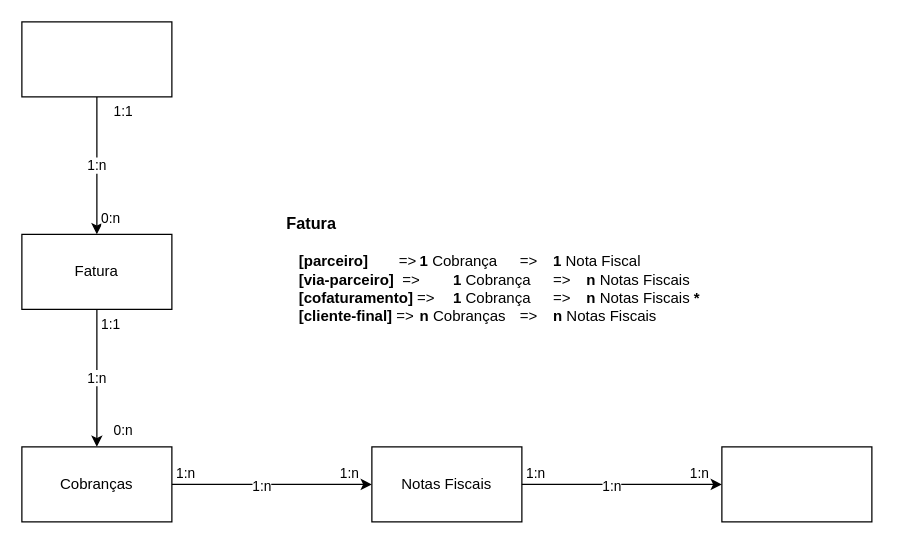
This 919x544 diagram has some shape labels left out. The shapes that lost their labels are listed below. From the top down, each one's centre as x and y in pixels, then its label:
At point (96, 59): "Parceiro".
At point (796, 484): "Itens da Nota".
